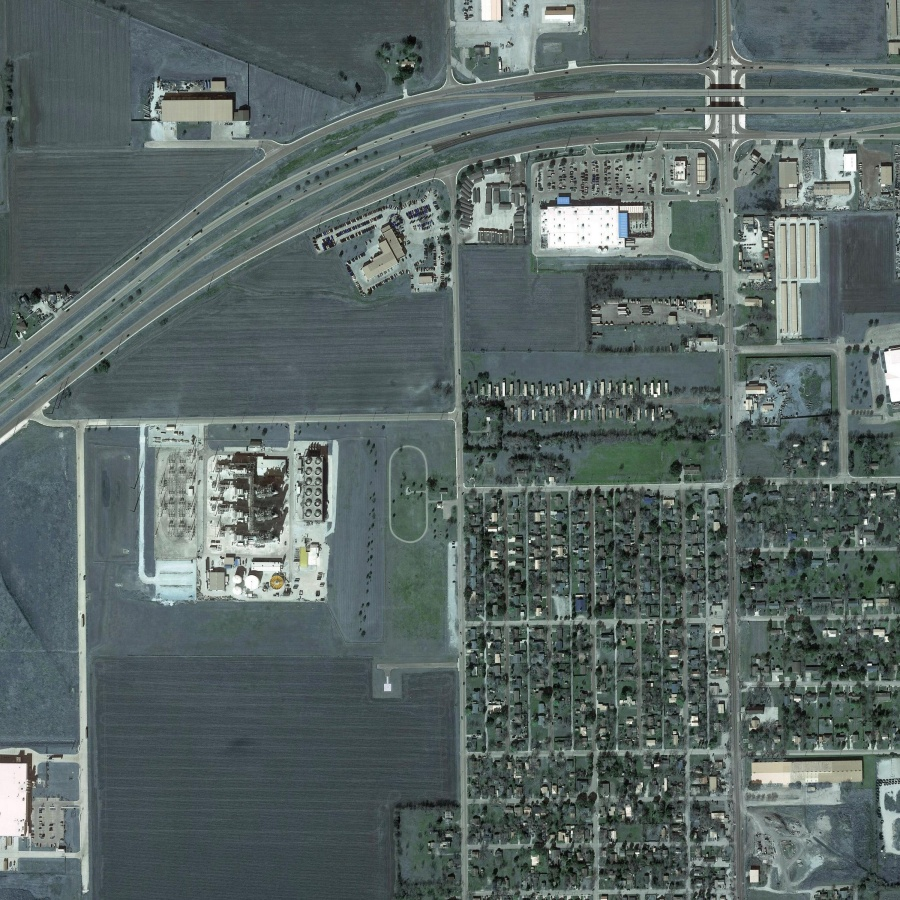PowerPlant: (141, 419, 335, 608)
